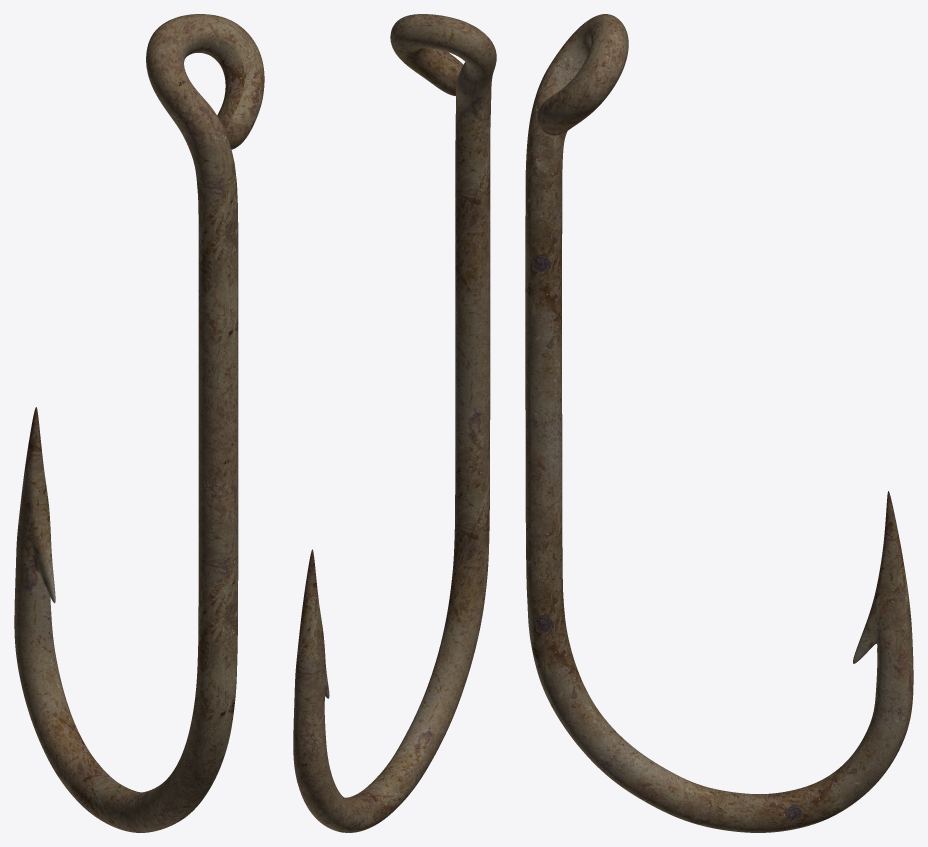
Rendered from Hook_Model.fbx.
3 renders of one model, left to right at view 1: azimuth 30°, elevation 25°; view 2: azimuth 150°, elevation 25°; view 3: azimuth 270°, elevation 25°, orthographic. The views are drawn at different scales.
Parts seen in each view (by area): view 1: Object_2; view 2: Object_2; view 3: Object_2.
Part boxes in pixels (x1,y1,x2,y2): Object_2: (14, 14, 264, 832); Object_2: (293, 14, 496, 832); Object_2: (525, 14, 913, 832).
Bounding box in the file's own units: 103 × 769 × 334.
Materials: 1 (1 with a texture image).
